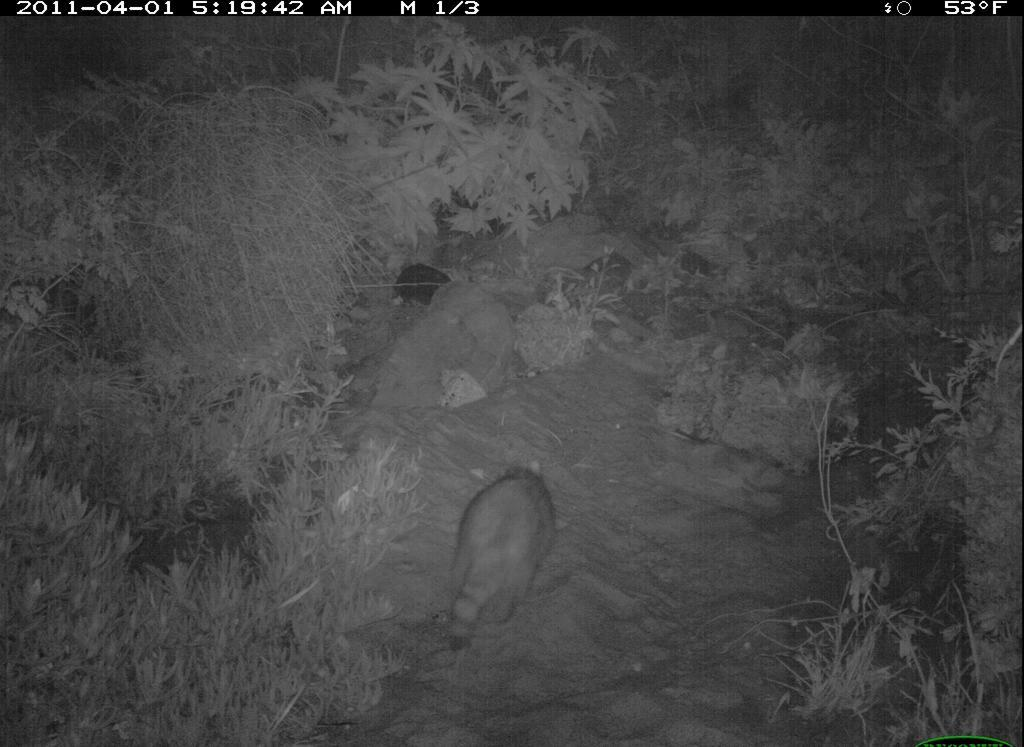raccoon: (434, 460, 570, 652)
